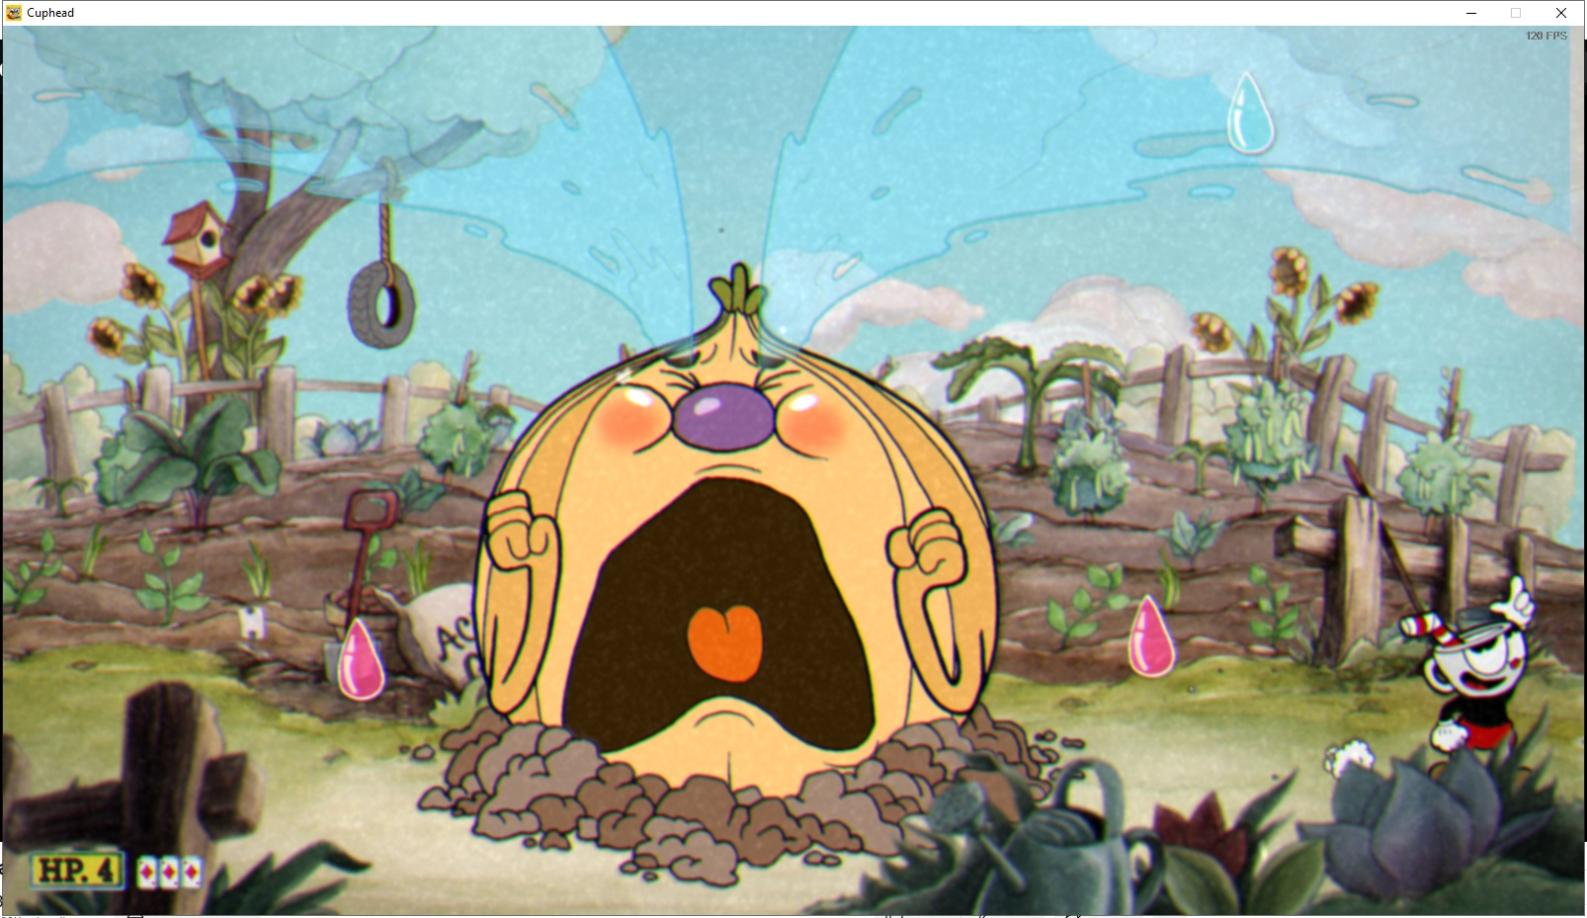hp4: (91, 851, 125, 891)
onion_boss: (452, 290, 1012, 825)
pink_rain: (1124, 585, 1180, 684), (340, 613, 396, 701)
player: (1389, 603, 1543, 800)
rain: (1221, 66, 1280, 160)
